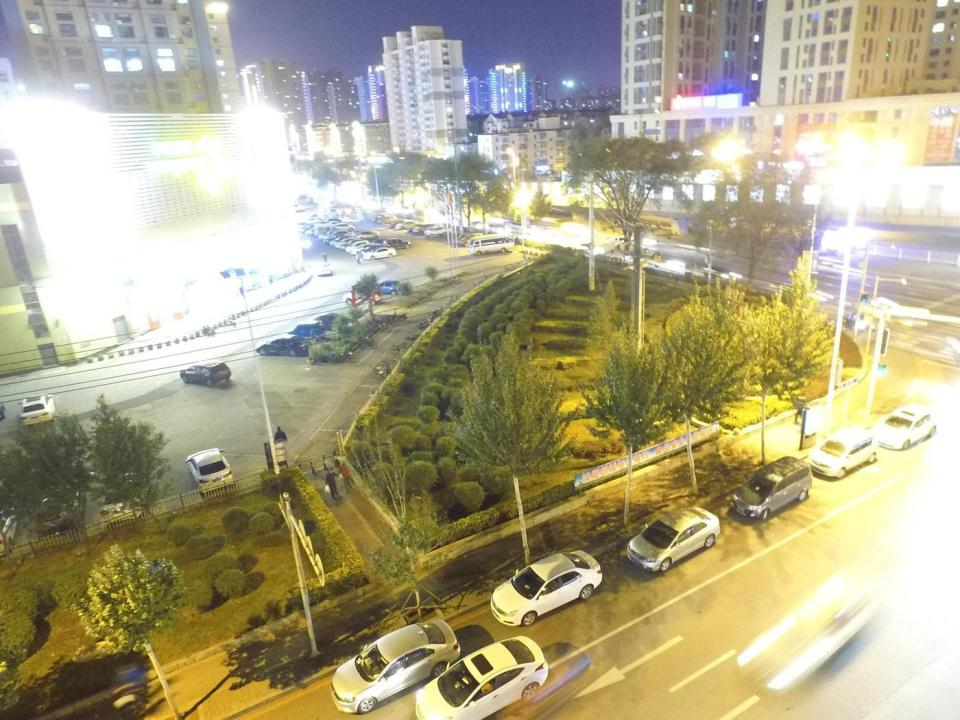bus: (468, 233, 514, 255)
car: (330, 619, 461, 715), (415, 635, 548, 720), (490, 548, 603, 626), (626, 506, 720, 575), (810, 426, 876, 480), (35, 473, 86, 530), (873, 406, 936, 449), (185, 447, 235, 497), (100, 474, 150, 521), (256, 334, 310, 358), (21, 393, 54, 426), (308, 312, 348, 332), (1, 507, 17, 552), (342, 288, 381, 304), (363, 246, 397, 261), (706, 266, 736, 282), (376, 238, 411, 250), (372, 281, 402, 294), (319, 229, 345, 241), (344, 240, 369, 252), (350, 244, 378, 254), (323, 232, 348, 243), (352, 230, 379, 240), (361, 244, 385, 255), (423, 226, 447, 237), (396, 219, 420, 230), (330, 235, 353, 246), (336, 237, 357, 248), (333, 223, 355, 233), (354, 229, 380, 237), (376, 215, 398, 224), (317, 262, 331, 276), (408, 224, 429, 232), (390, 220, 406, 228)
van: (732, 456, 812, 521), (180, 361, 231, 386), (287, 320, 325, 341), (313, 223, 343, 238), (413, 223, 435, 234)
